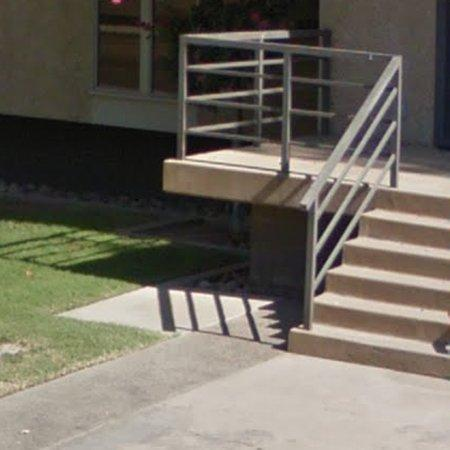stairs: (290, 189, 450, 378)
